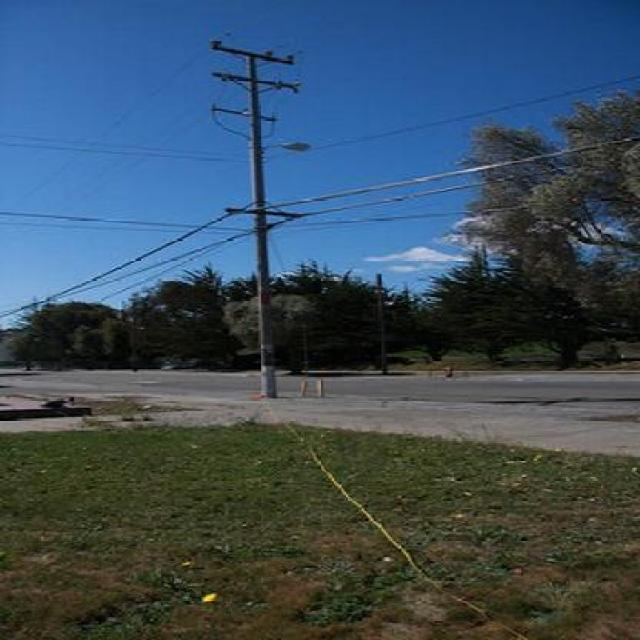pole: (184, 28, 321, 395)
